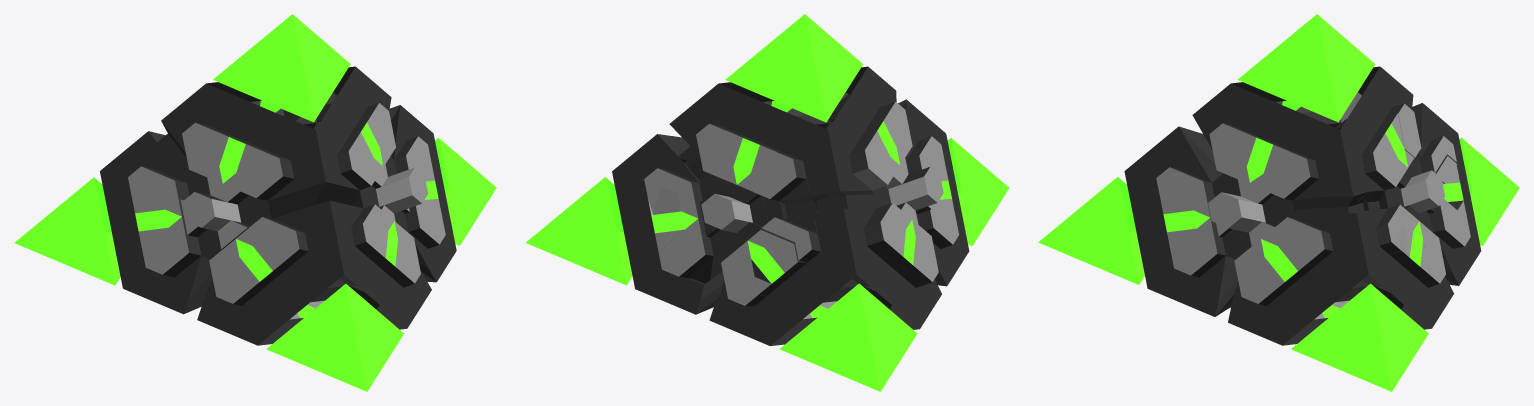
File: tmGs.gltf
The picture shows the model from 3 angles, left to right: view 1: azimuth 30°, elevation 25°; view 2: azimuth 150°, elevation 25°; view 3: azimuth 270°, elevation 25°; orthographic projection.
Visible parts, largest first — view 1: ConeGreen; view 2: ConeGreen; view 3: ConeGreen.
Boxes of the visible parts, <box> form: ConeGreen: <box>14,14,496,391</box>; ConeGreen: <box>525,14,1009,391</box>; ConeGreen: <box>1038,14,1519,391</box>.
Size of the model in its own units: 0.3346 by 0.2186 by 0.3336.
